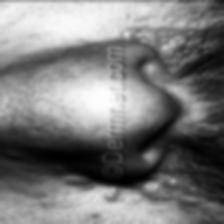Unclassified: (122, 16, 190, 47), (145, 178, 171, 204)
